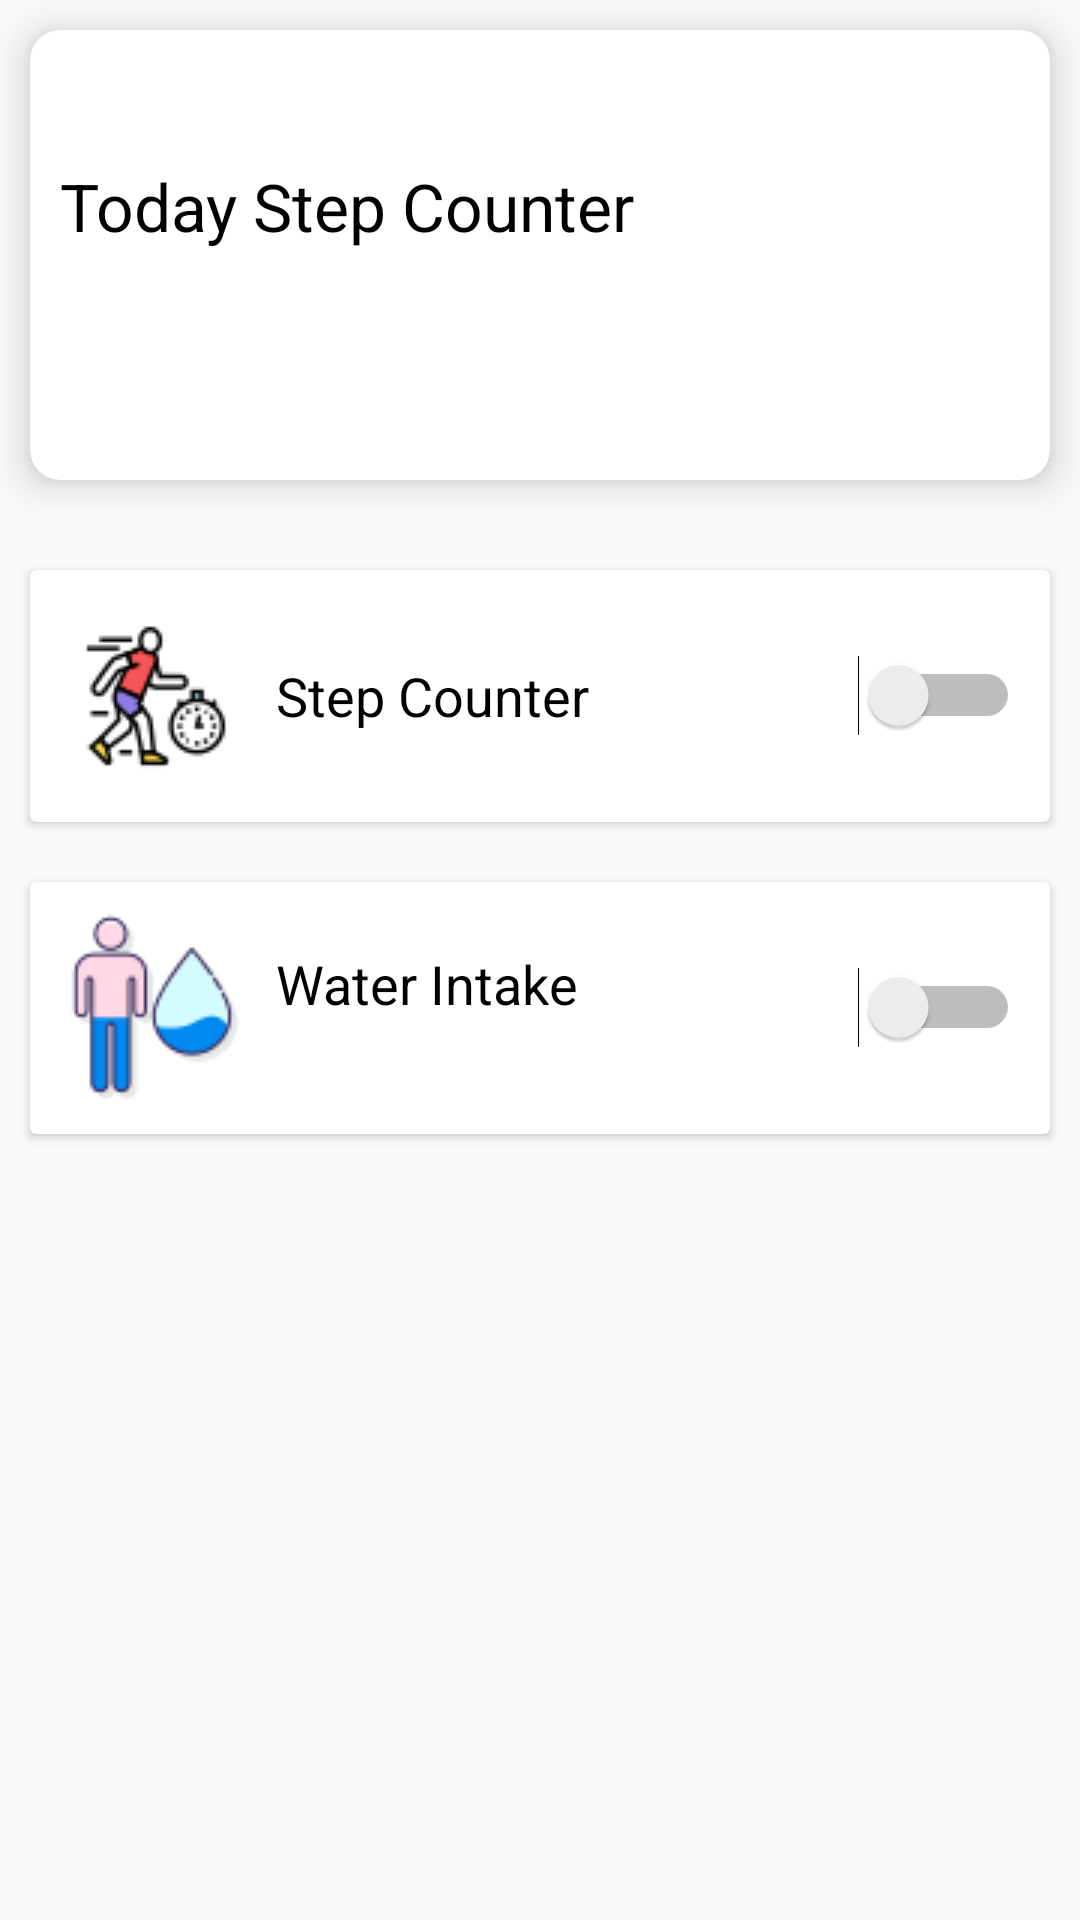

Locate icon controls on the screen. Image size 1080 x 1920, boxes as BBox(x1, y1, x2, y2).
hyderation: BBox(72, 915, 236, 1097)
